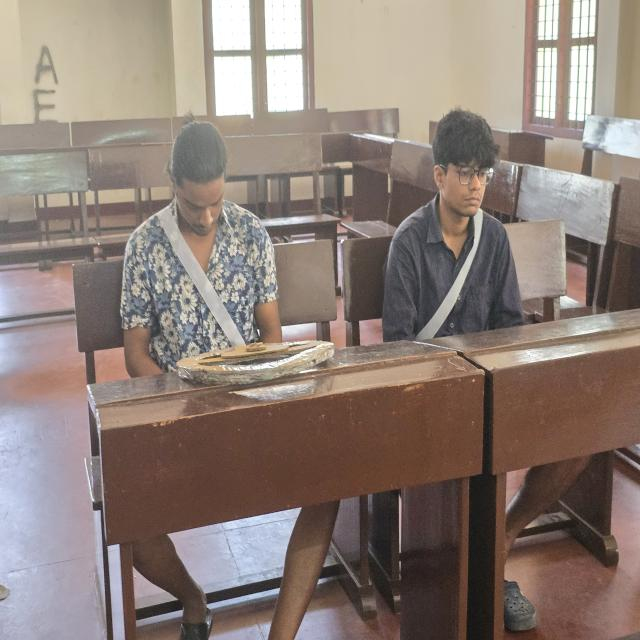seatbelt: (133, 225, 279, 354)
